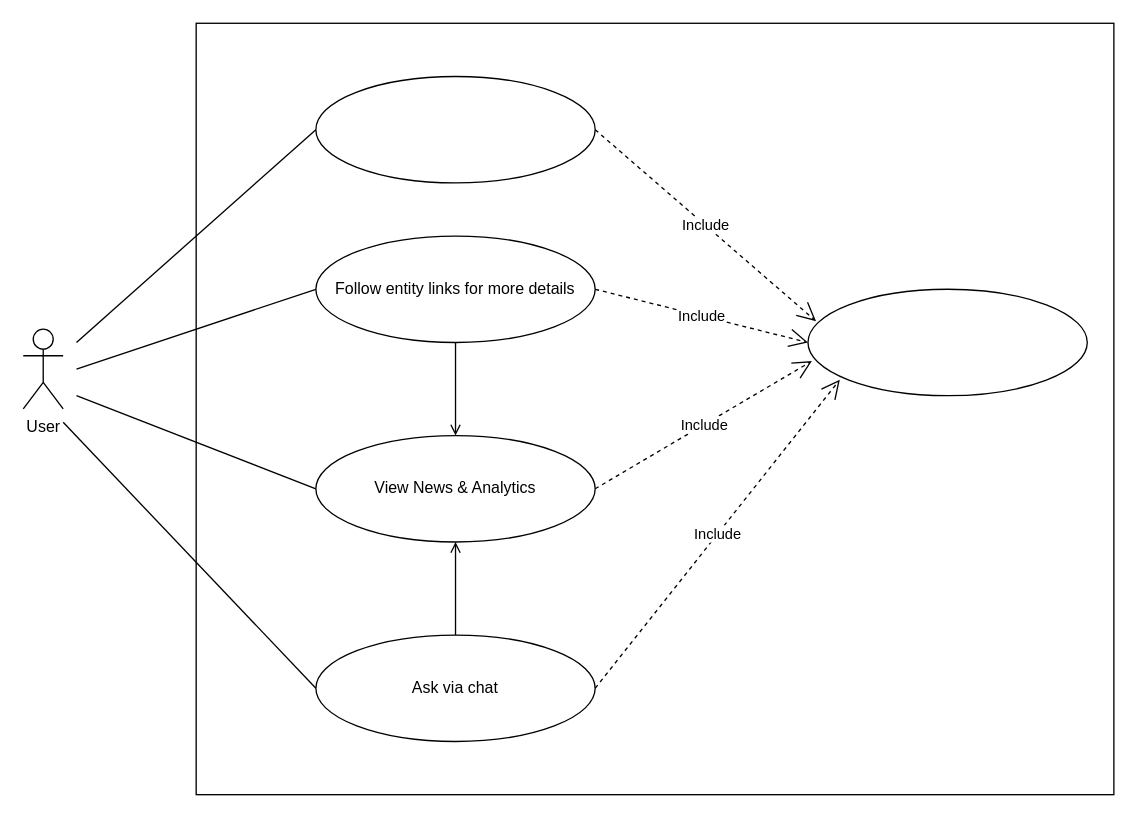
The diagram is 1137 pixels wide and 818 high, and some of its shapes have lost their labels. Each missing label, with the centre of its shape:
"Sign In" belongs at point (947, 342).
"View Defi Signals and Explantion" belongs at point (455, 129).
